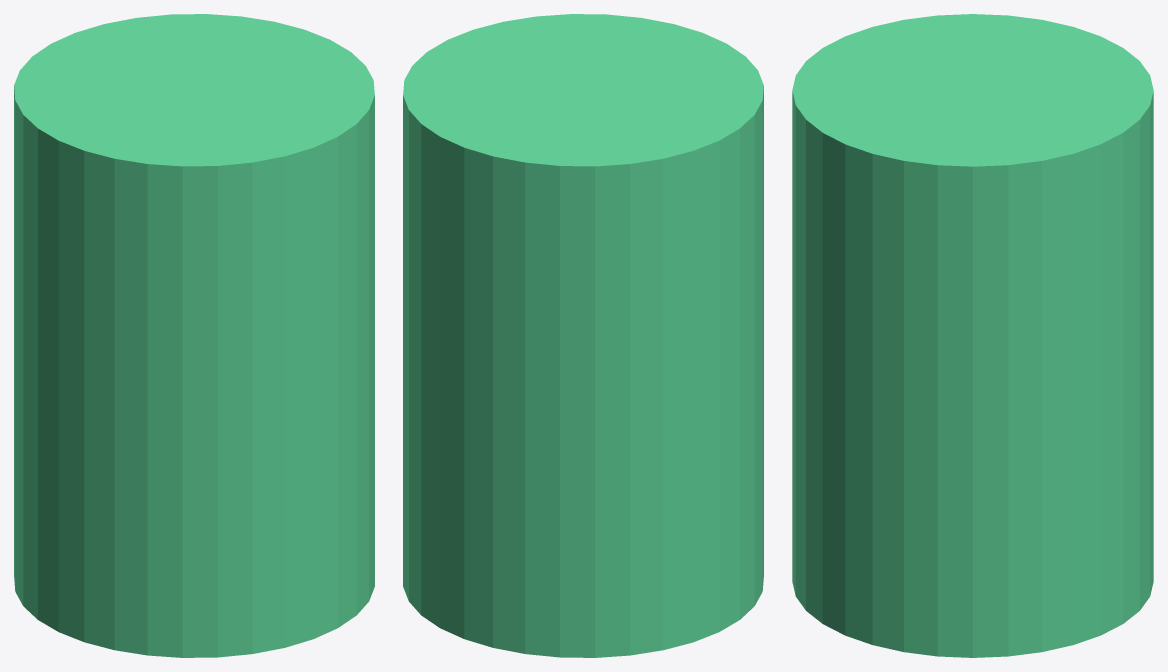
Rendered from cylinder-green.glb.
3 renders of one model, left to right at view 1: azimuth 30°, elevation 25°; view 2: azimuth 150°, elevation 25°; view 3: azimuth 270°, elevation 25°, orthographic.
Parts seen in each view (by area): view 1: Cilindro; view 2: Cilindro; view 3: Cilindro.
Part boxes in pixels (left/top/right/bottom): Cilindro: left=14, top=14, right=374, bottom=657; Cilindro: left=403, top=14, right=763, bottom=657; Cilindro: left=792, top=14, right=1153, bottom=657.
Bounding box in the file's own units: 0.8 × 1.2 × 0.8.
